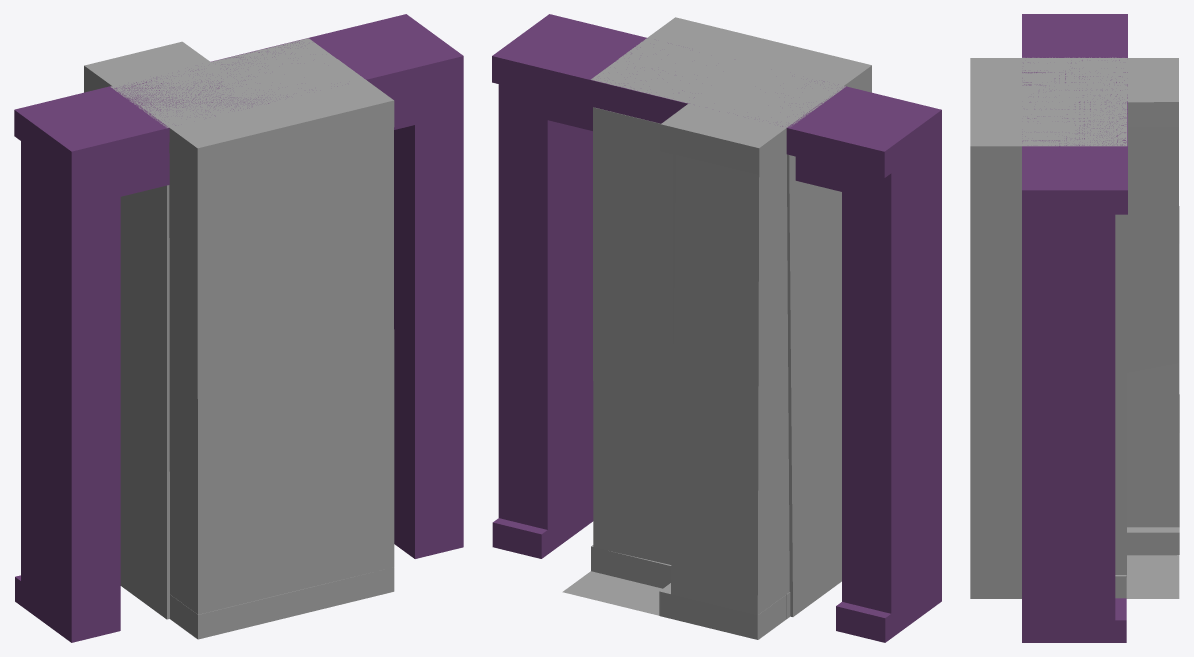
The model's file is HouseWalls.fbx.
The picture shows the model from 3 angles, left to right: view 1: azimuth 30°, elevation 25°; view 2: azimuth 150°, elevation 25°; view 3: azimuth 270°, elevation 25°; orthographic projection. The views are drawn at different scales.
Parts seen in each view (by area): view 1: CornorEdge, DoorWay, CornorEdgeInterior, WallTiles, WallInterior, WallEdge; view 2: DoorWay, CornorEdge, WallTiles, WallInterior, CornorEdgeInterior, WallEdgeWindow, WallEdge, Floor; view 3: DoorWay, CornorEdgeInterior, CornorEdge, WallInterior, WallTiles, WallEdge, Floor.
Part boxes in pixels (left/top/right/bottom): CornorEdge: left=84, top=41, right=394, bottom=614; DoorWay: left=14, top=14, right=463, bottom=642; CornorEdgeInterior: left=85, top=42, right=394, bottom=639; WallTiles: left=110, top=42, right=362, bottom=619; WallInterior: left=113, top=39, right=364, bottom=127; WallEdge: left=121, top=45, right=364, bottom=126; DoorWay: left=492, top=14, right=941, bottom=642; CornorEdge: left=619, top=17, right=871, bottom=639; WallTiles: left=593, top=38, right=845, bottom=616; WallInterior: left=591, top=38, right=838, bottom=565; CornorEdgeInterior: left=620, top=17, right=871, bottom=639; WallEdgeWindow: left=593, top=49, right=842, bottom=594; WallEdge: left=591, top=52, right=799, bottom=618; Floor: left=562, top=571, right=786, bottom=639; DoorWay: left=1022, top=14, right=1127, bottom=642; CornorEdgeInterior: left=970, top=58, right=1179, bottom=530; CornorEdge: left=970, top=58, right=1179, bottom=598; WallInterior: left=1022, top=63, right=1127, bottom=146; WallTiles: left=1022, top=57, right=1127, bottom=576; WallEdge: left=1022, top=58, right=1127, bottom=598; Floor: left=1126, top=555, right=1179, bottom=598.
Size of the model in its own units: 2 by 2.39 by 1.
